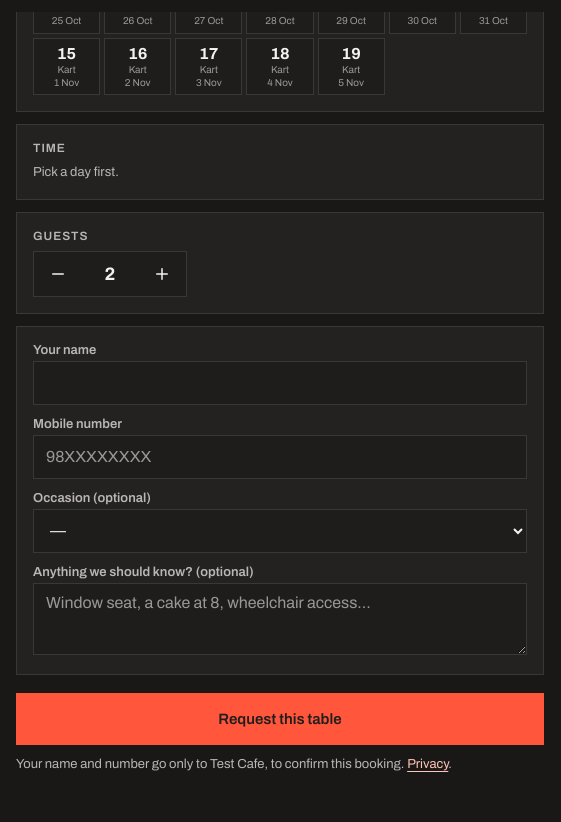
Test case: the form (S842) › a refused send still says what is missing and moves to it
(page scrolled)
Click the button "Request this table" at coordinates (280, 719), box x1=16 y1=693 x2=544 y2=745
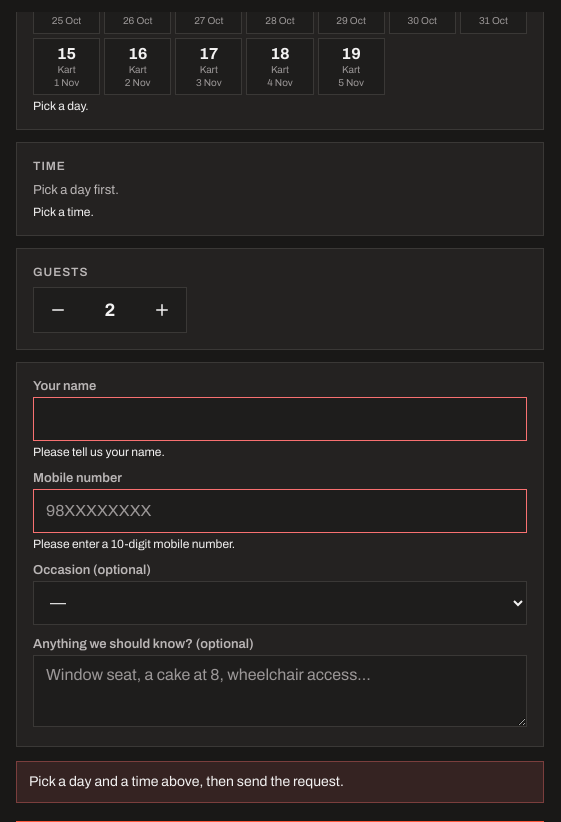
Now the text "Pick a day and a time above, then send the request." is shown, box x1=16 y1=761 x2=544 y2=803
